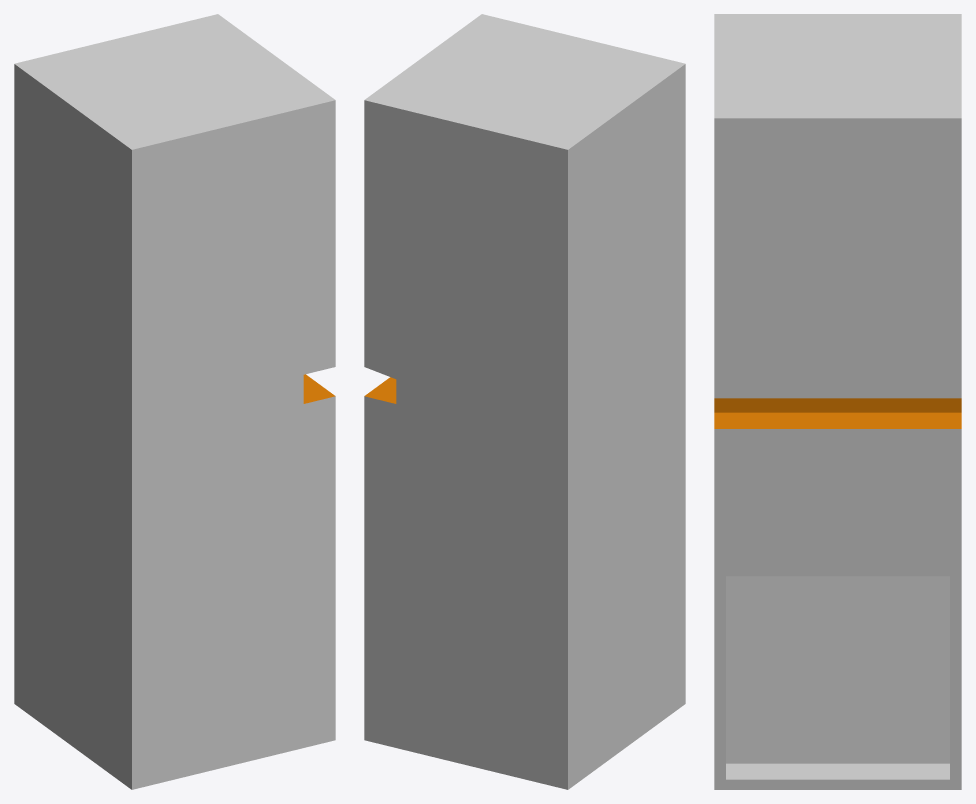
File: Wall2.fbx
3 views of the same model, side by side, from view 1: azimuth 30°, elevation 25°; view 2: azimuth 150°, elevation 25°; view 3: azimuth 270°, elevation 25° (orthographic). The views are drawn at different scales.
Visible parts, largest first — view 1: Cube.001; view 2: Cube.001; view 3: Cube.001.
Boxes of the visible parts, x1,y1,x2,y2 form: Cube.001: (14, 14, 335, 789); Cube.001: (364, 14, 685, 789); Cube.001: (714, 14, 961, 789).
Bounding box in the file's own units: 200 × 600 × 200.
